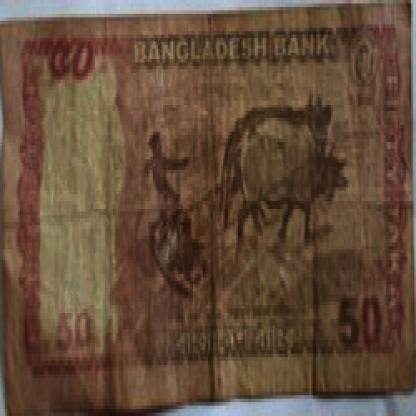Fifty taka: (328, 288, 384, 371), (45, 38, 101, 94)
